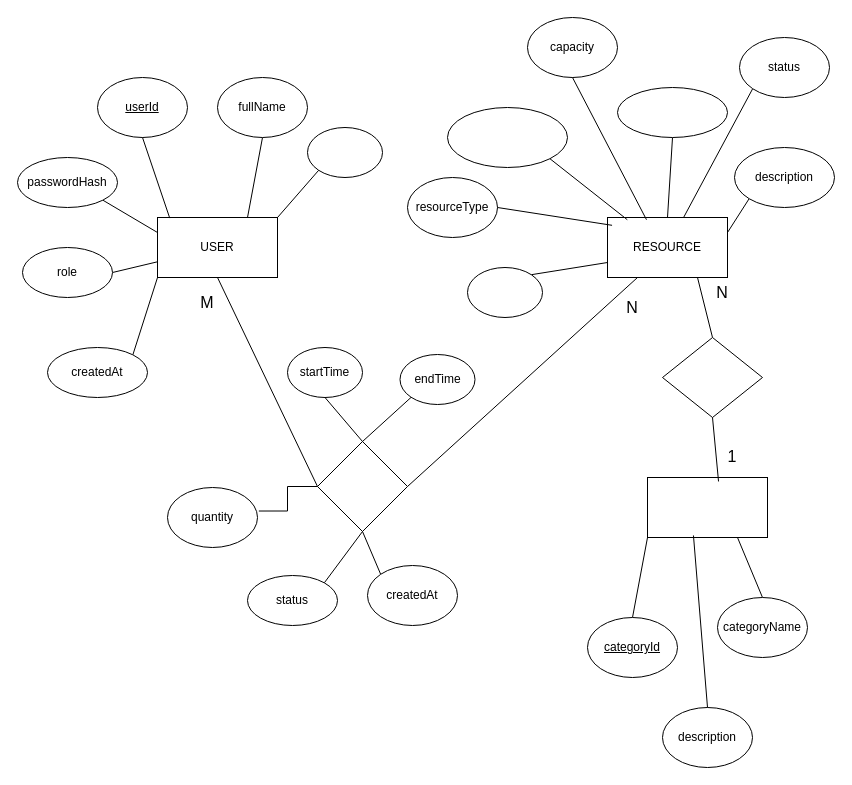
This 852x785 diagram has some shape labels left out. Each missing label, with the centre of its shape:
"BELONGS_TO" belongs at pixel 712 377.
"CATEGORY" belongs at pixel 707 507.
"email" belongs at pixel 344 152.
"location" belongs at pixel 504 292.
"name" belongs at pixel 672 112.
"RESERVES" belongs at pixel 362 486.
"resourceID" belongs at pixel 507 137.
